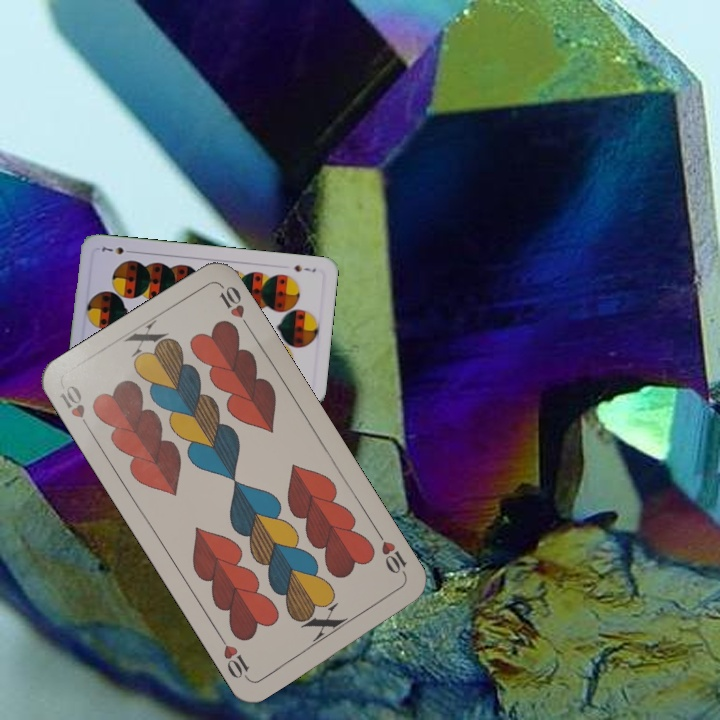H10: (55, 380, 95, 436), (372, 527, 410, 580)
S7: (290, 261, 318, 275)
